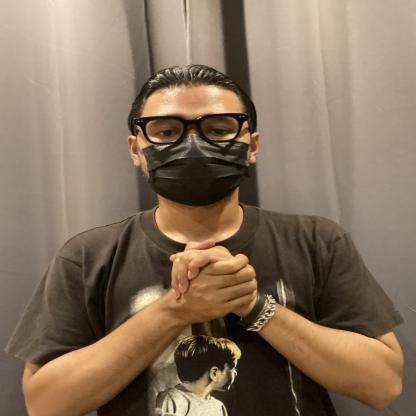Grieve: (86, 220, 320, 346)
